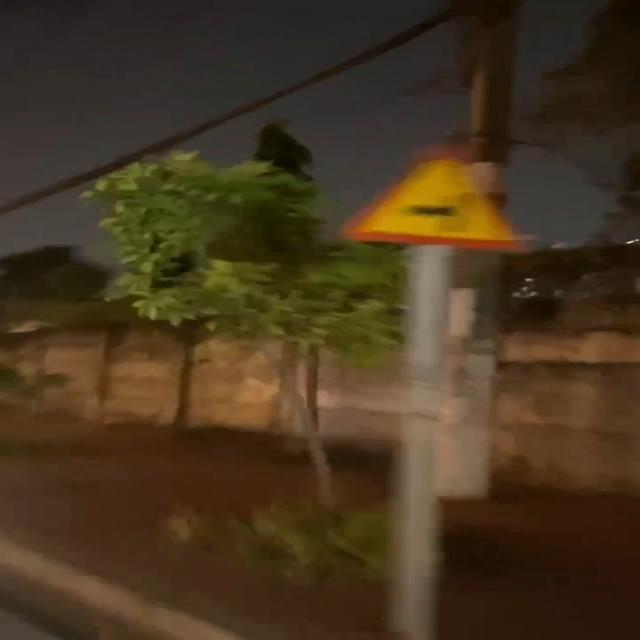205-duong-giao-nhau: (342, 142, 530, 254)
